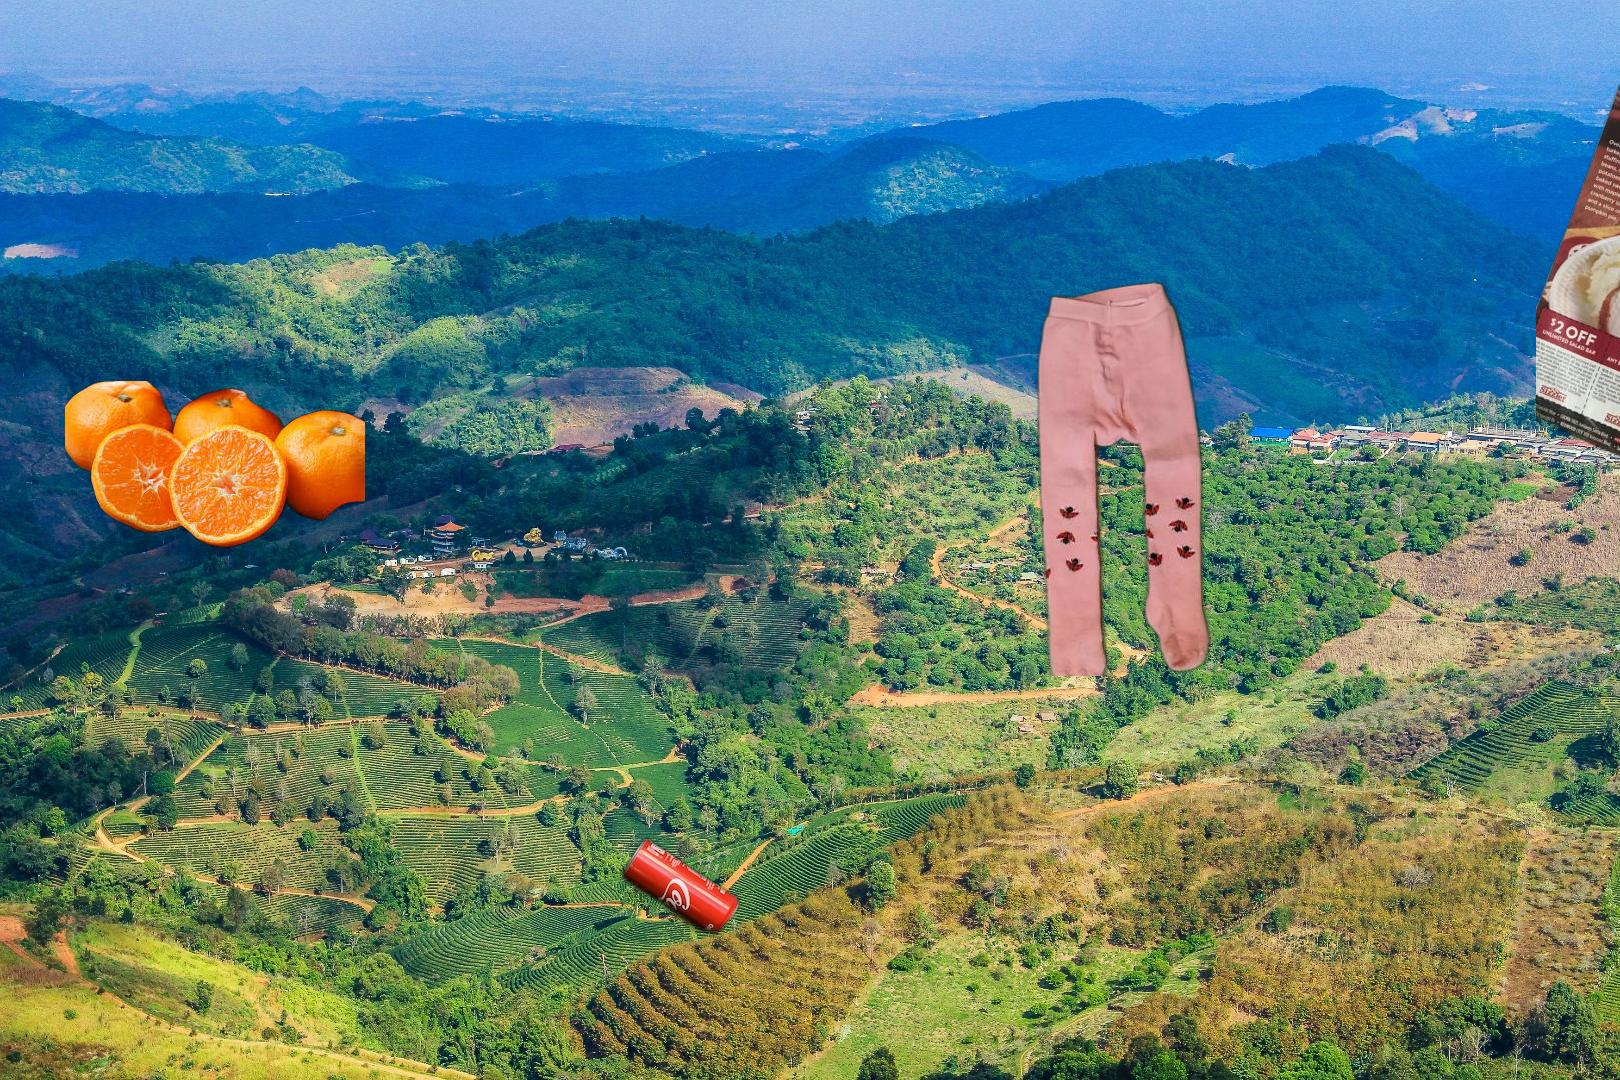biological: (65, 381, 365, 548)
clothes: (1031, 278, 1216, 676)
metal-cans: (352, 832, 744, 1080)
paper: (1536, 83, 1620, 466)
